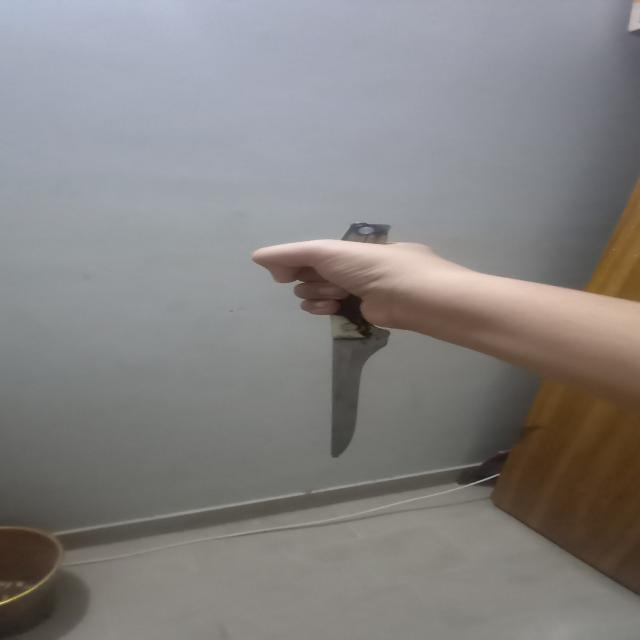Knife: (268, 193, 402, 468)
